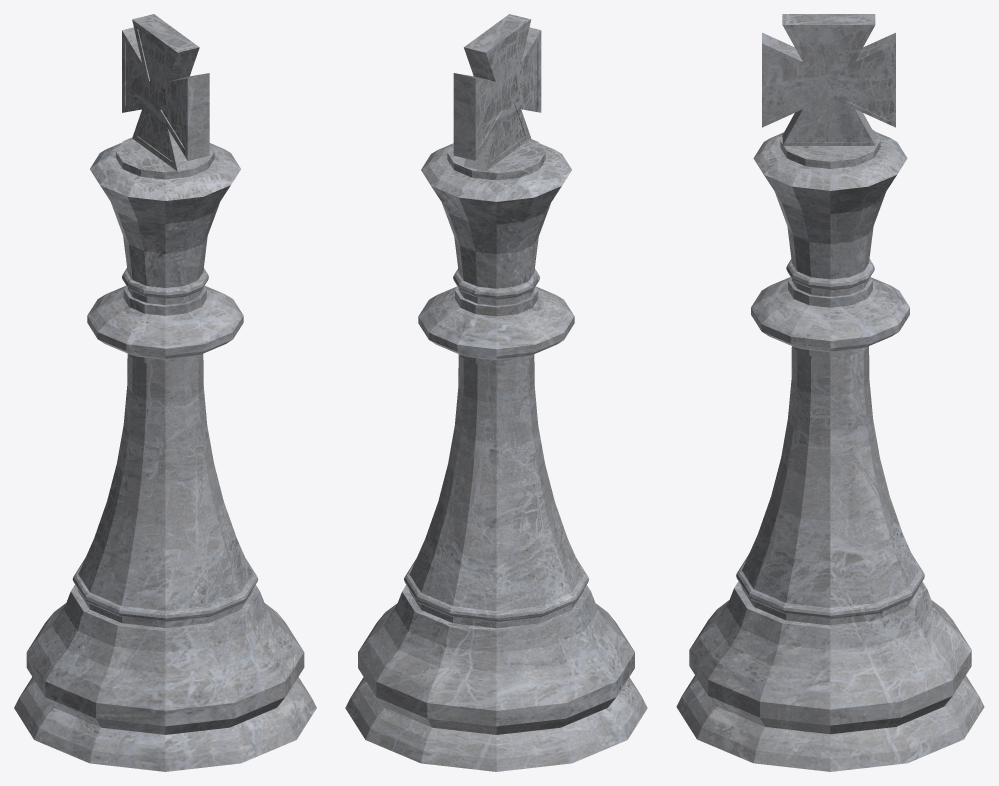
The model's file is king.obj.
3 views of the same model, side by side, from view 1: azimuth 30°, elevation 25°; view 2: azimuth 150°, elevation 25°; view 3: azimuth 270°, elevation 25° (orthographic).
Parts seen in each view (by area): view 1: king; view 2: king; view 3: king.
Boxes of the visible parts, x1,y1,x2,y2 form: king: [14, 14, 316, 771]; king: [345, 14, 647, 771]; king: [676, 14, 984, 771].
Bounding box in the file's own units: 0.1699 × 0.4178 × 0.1699.
Materials: 1 (1 with a texture image).
